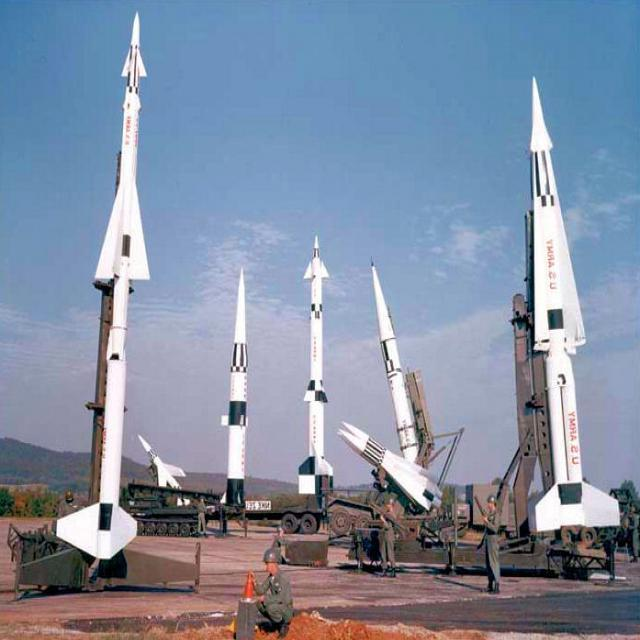missile: (515, 74, 624, 532), (92, 12, 154, 559), (360, 255, 447, 459), (216, 263, 268, 508), (332, 419, 448, 513), (296, 233, 336, 493), (134, 429, 188, 507)
